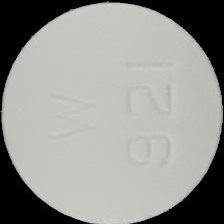55289-385: (0, 0, 224, 224)
